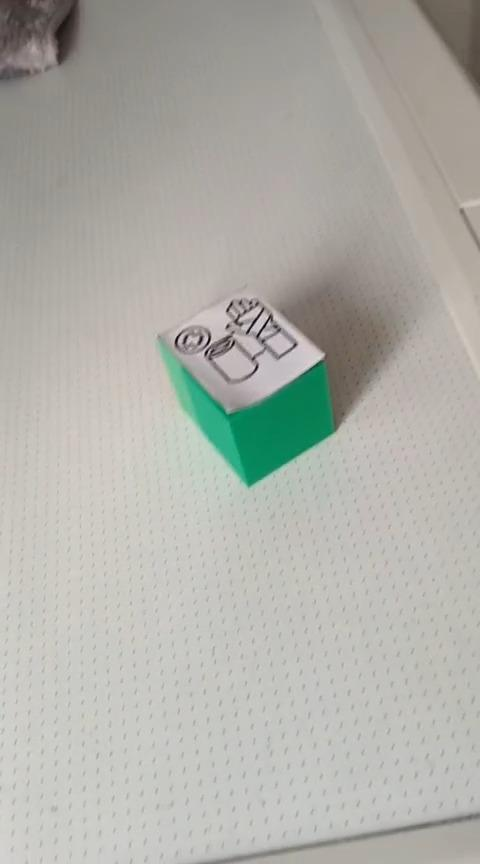Bandages: (156, 287, 338, 488)
